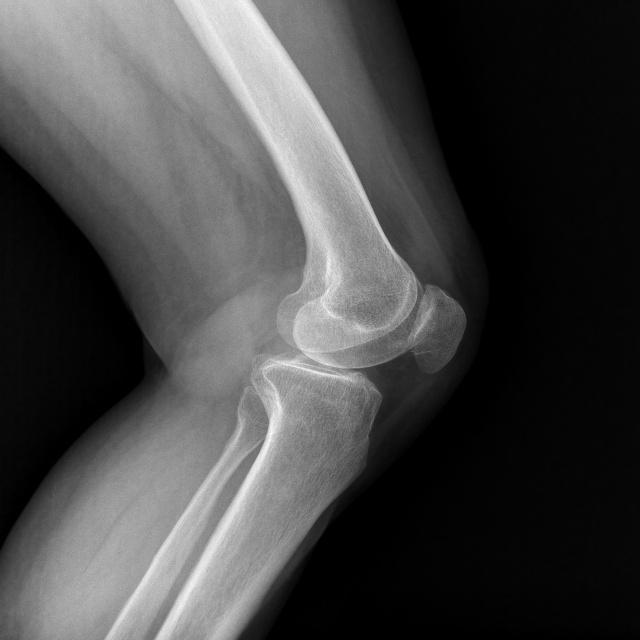Knee: (248, 276, 468, 441)
